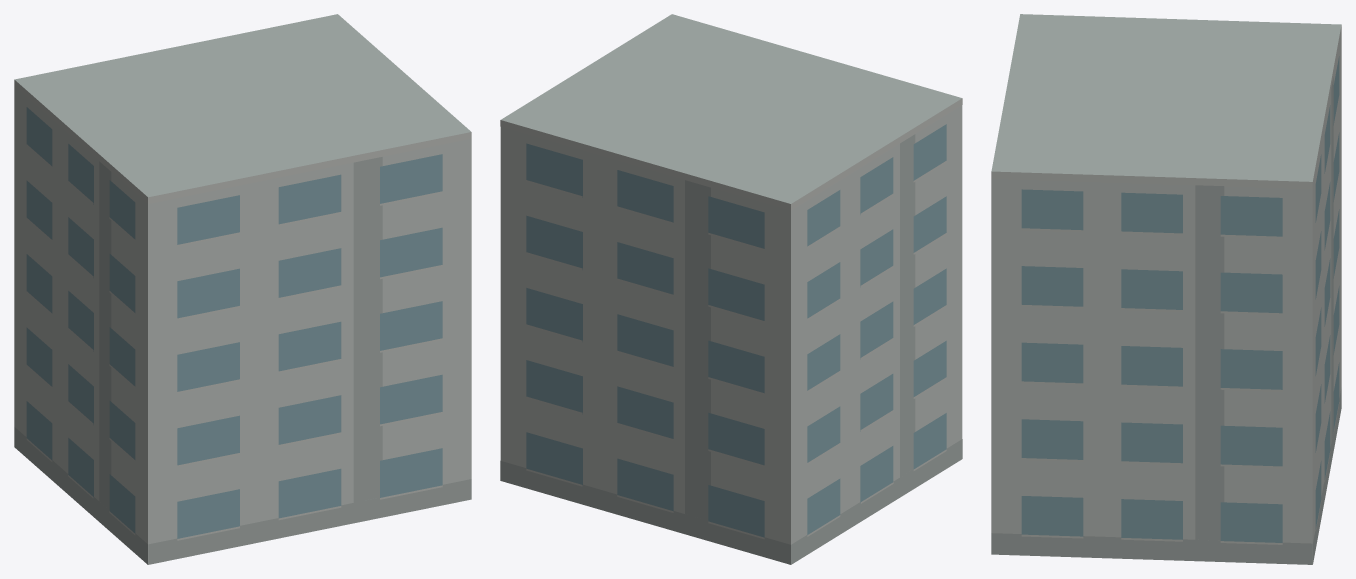
Rendered from survey-upis-32710081.glb.
3 views of the same model, side by side, from view 1: azimuth 30°, elevation 25°; view 2: azimuth 150°, elevation 25°; view 3: azimuth 270°, elevation 25° (orthographic). The views are drawn at different scales.
Parts seen in each view (by area): view 1: survey-upis-32710081.tmp; view 2: survey-upis-32710081.tmp; view 3: survey-upis-32710081.tmp.
Part boxes in pixels (x1,y1,x2,y2): survey-upis-32710081.tmp: (14, 14, 471, 564); survey-upis-32710081.tmp: (500, 14, 962, 564); survey-upis-32710081.tmp: (991, 14, 1341, 564).
Bounding box in the file's own units: 12.33 × 13.1 × 10.87.
